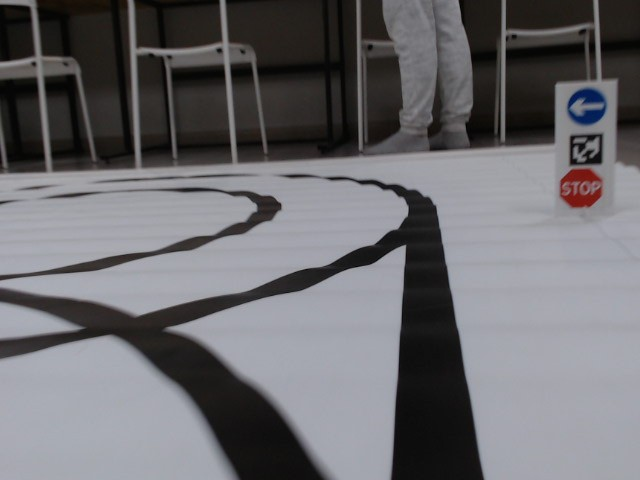Stop: (559, 169, 601, 207)
